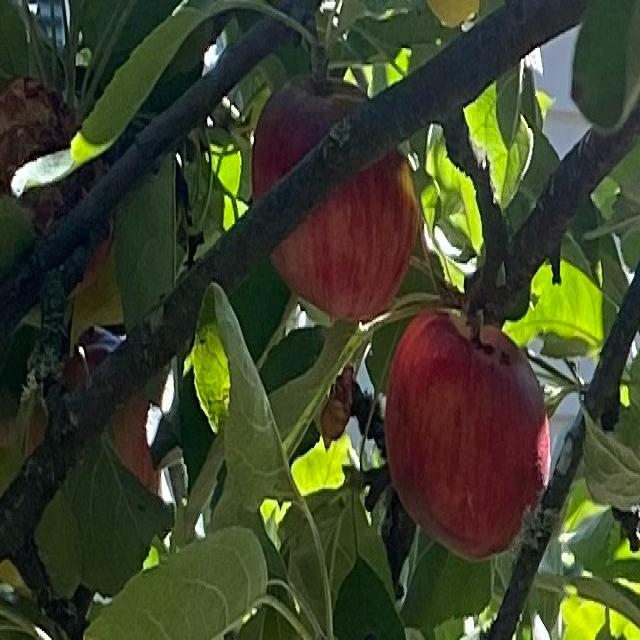Apples: (387, 308, 552, 560), (257, 82, 418, 318)
